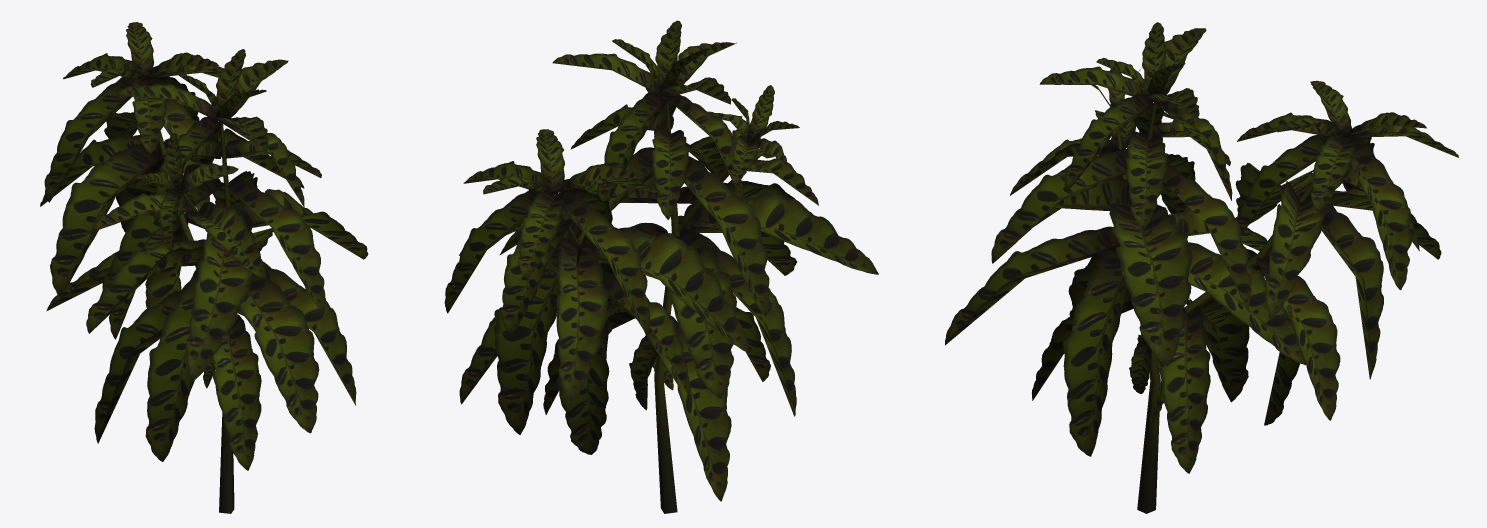
File: trop_shrub_04.obj
3 views of the same model, side by side, from view 1: azimuth 30°, elevation 25°; view 2: azimuth 150°, elevation 25°; view 3: azimuth 270°, elevation 25° (orthographic). The views are drawn at different scales.
Visible parts, largest first — view 1: trop_shrub_04; view 2: trop_shrub_04; view 3: trop_shrub_04.
Part boxes in pixels (box(x1,y1,x2,y2)): trop_shrub_04: box(40, 22, 368, 513); trop_shrub_04: box(444, 20, 878, 513); trop_shrub_04: box(945, 22, 1458, 513).
Bounding box in the file's own units: 138 × 175 × 184.
